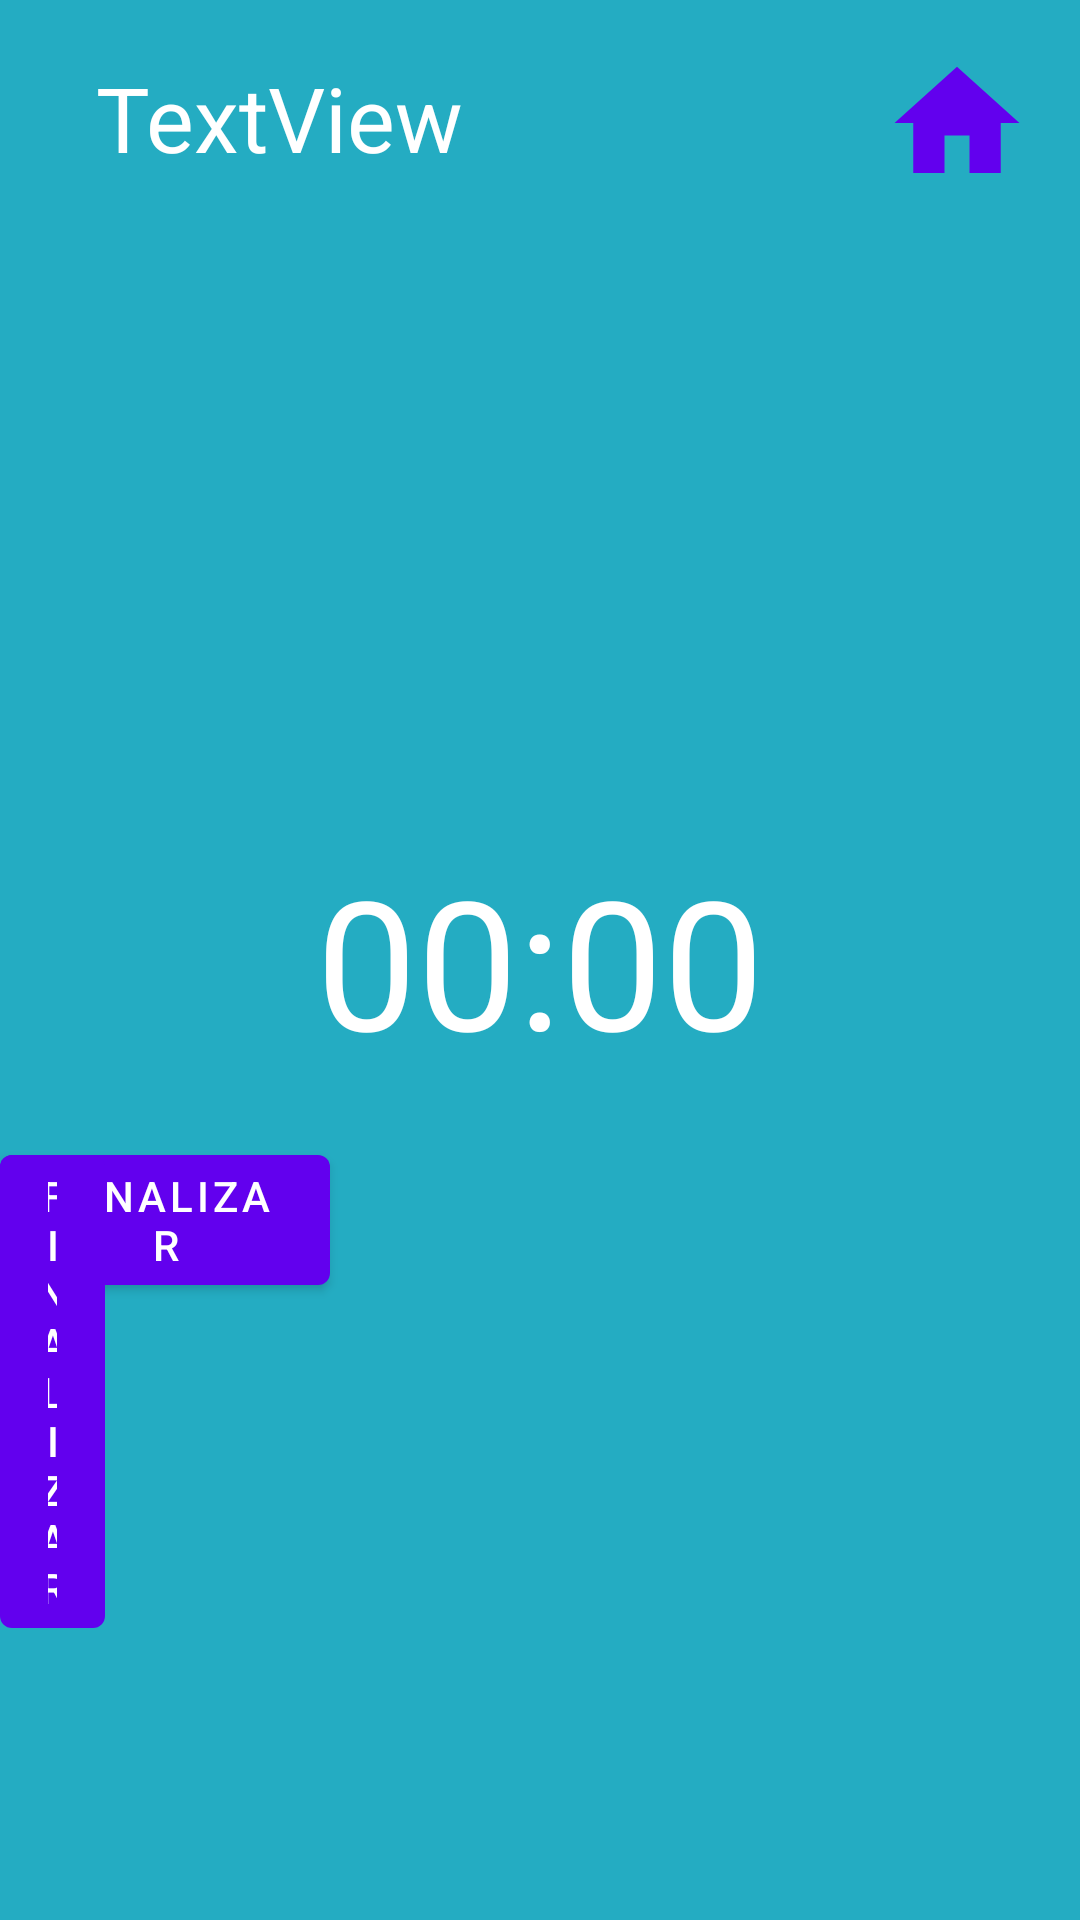

Icon click points for this 1080w x 1920h phone screenshot, format [x,y]:
home: [957,120]
